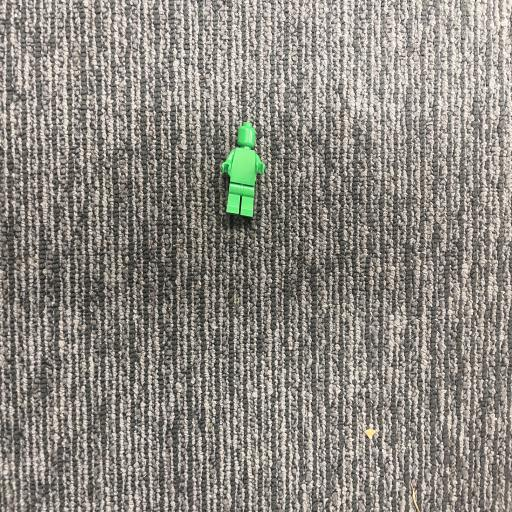Lego-Minifig: (222, 122, 265, 217)
